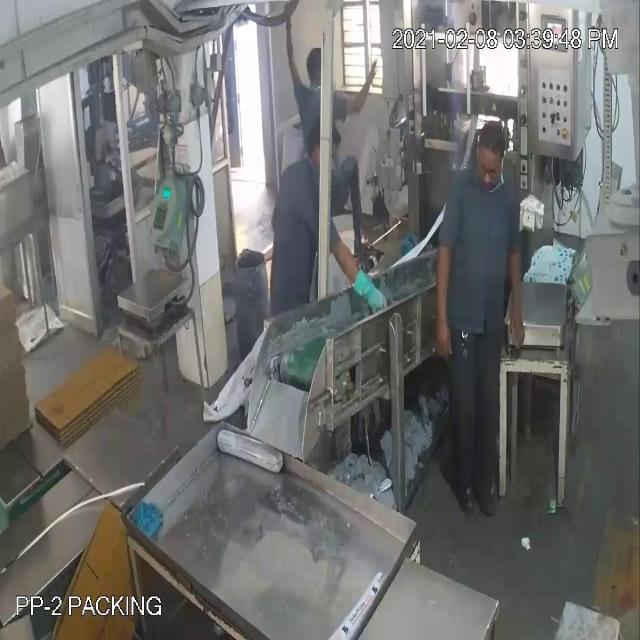gloves: (326, 225, 392, 326)
no-gloves: (431, 220, 461, 369), (502, 231, 532, 363)
